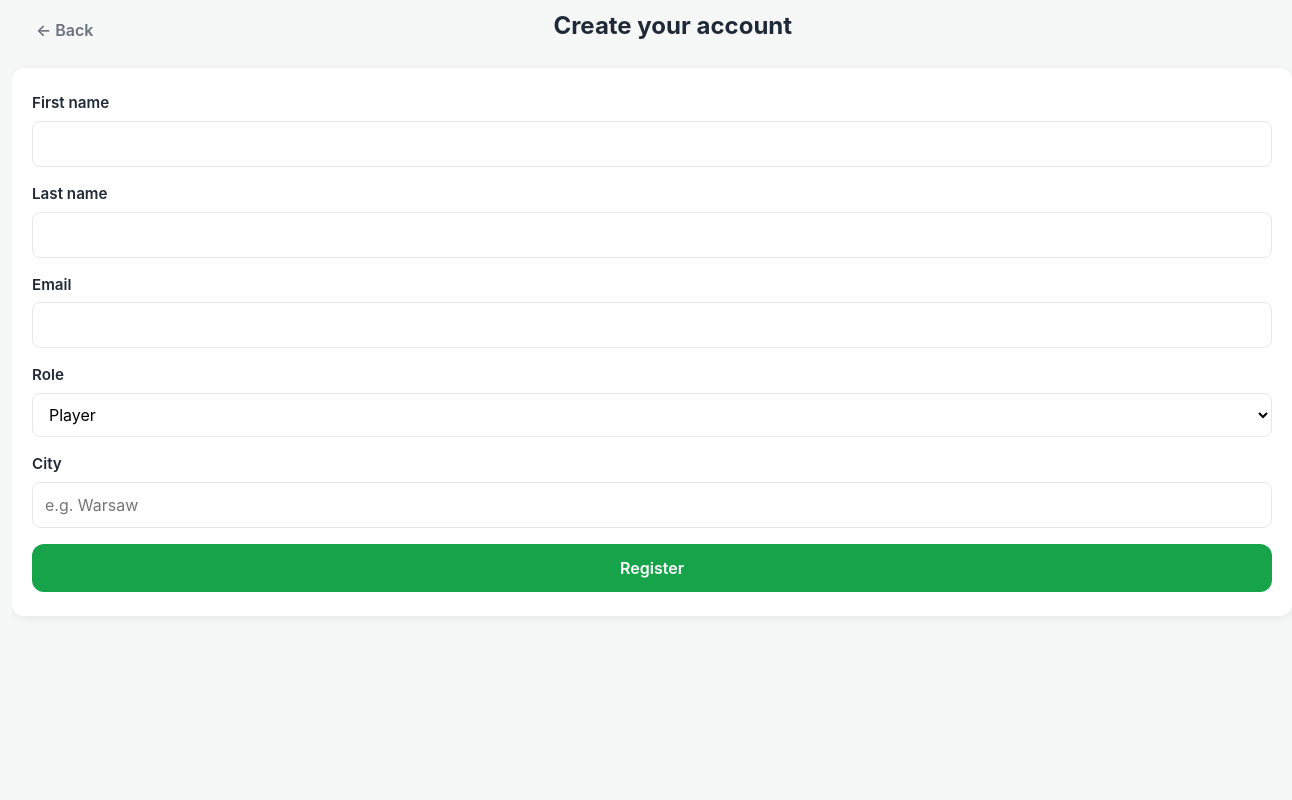
RegistrationPage › rejects an invalid email and shows city for players
Type "John" into the field labelled "First name" at (652, 144), box left=32, top=121, right=1272, bottom=167
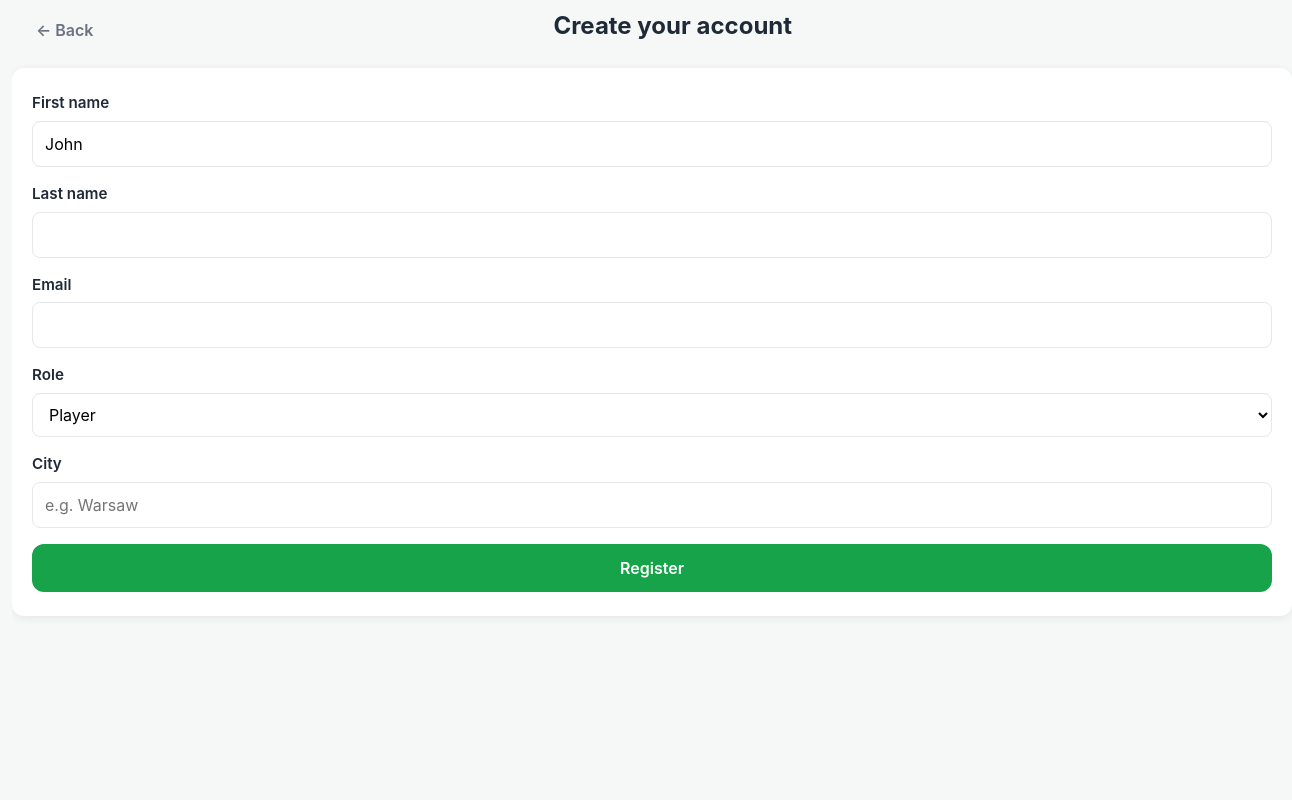
Type "Doe" into the field labelled "Last name" at (652, 235), box left=32, top=212, right=1272, bottom=258
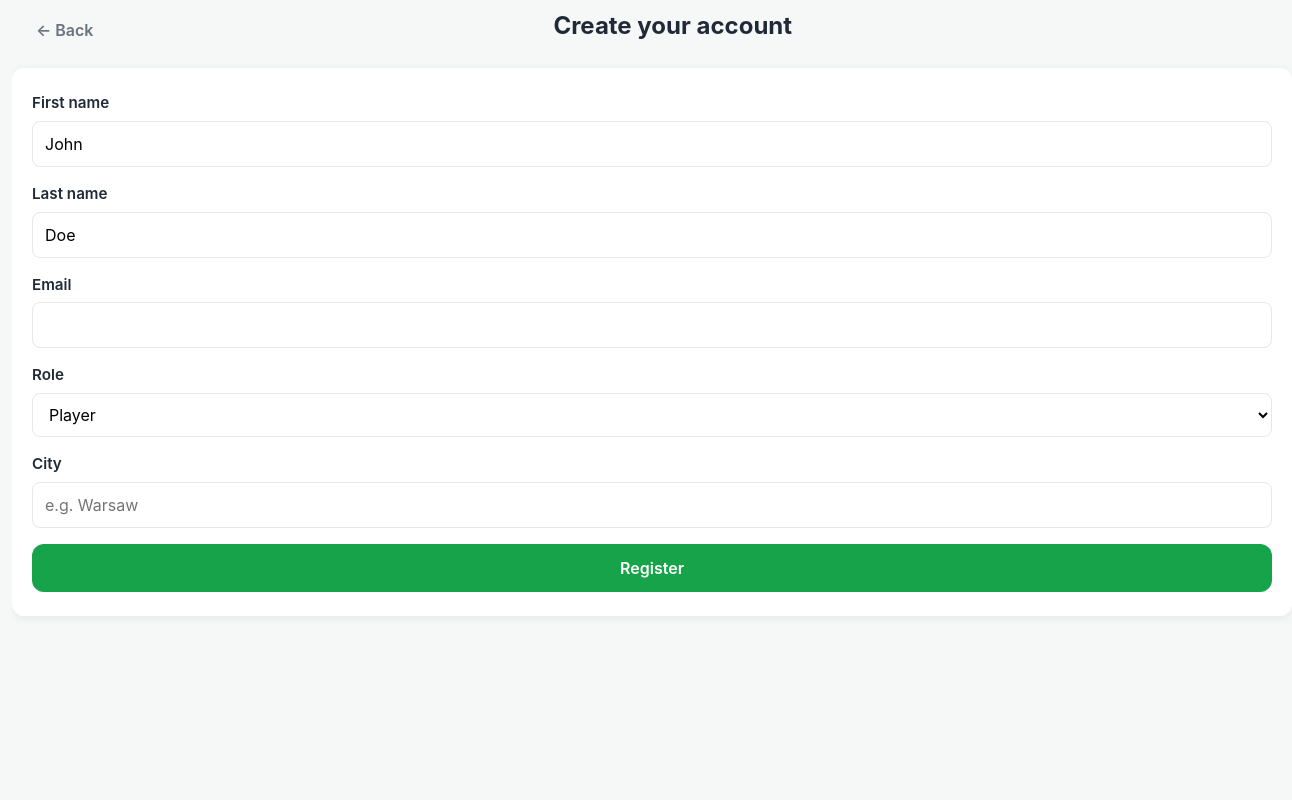
Type "bad-email" into the field labelled "Email" at (652, 325), box left=32, top=302, right=1272, bottom=348
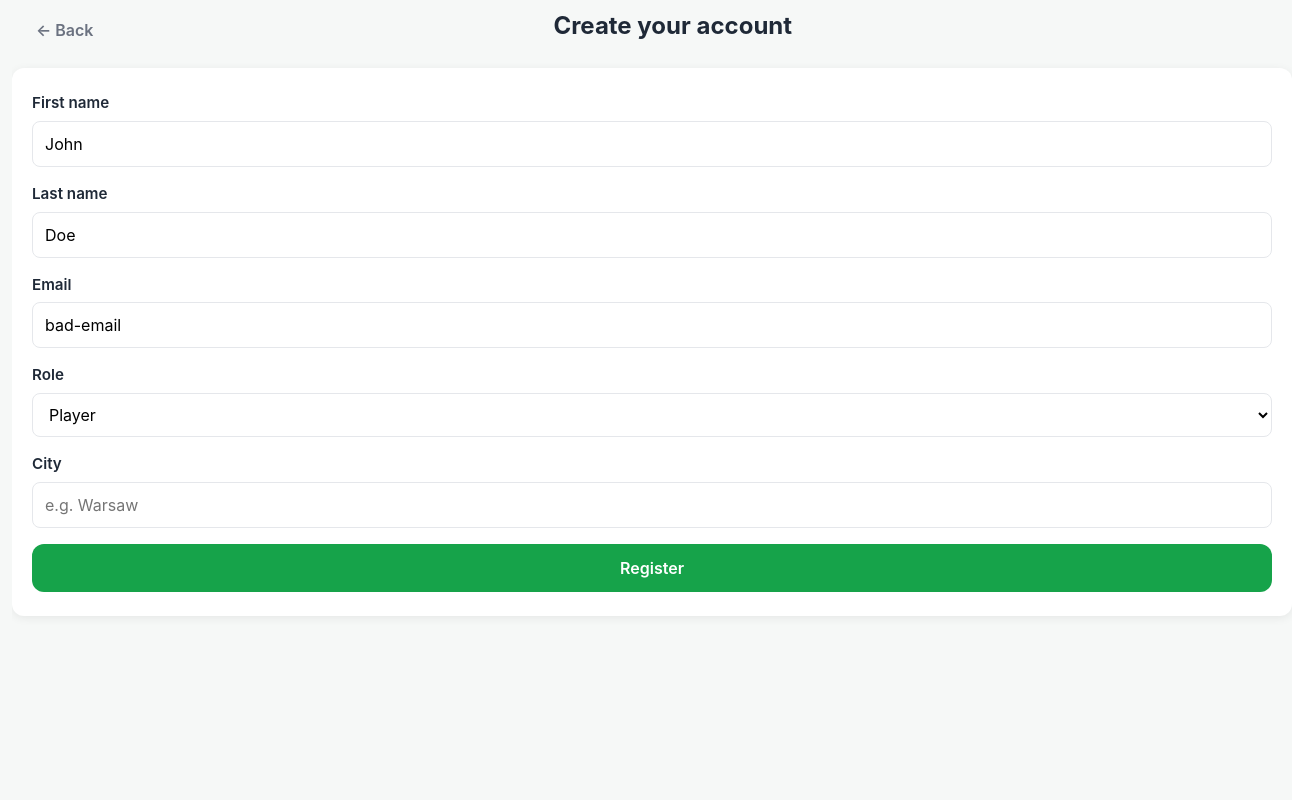
Type "Warsaw" into the field labelled "City" at (652, 505), box left=32, top=482, right=1272, bottom=528
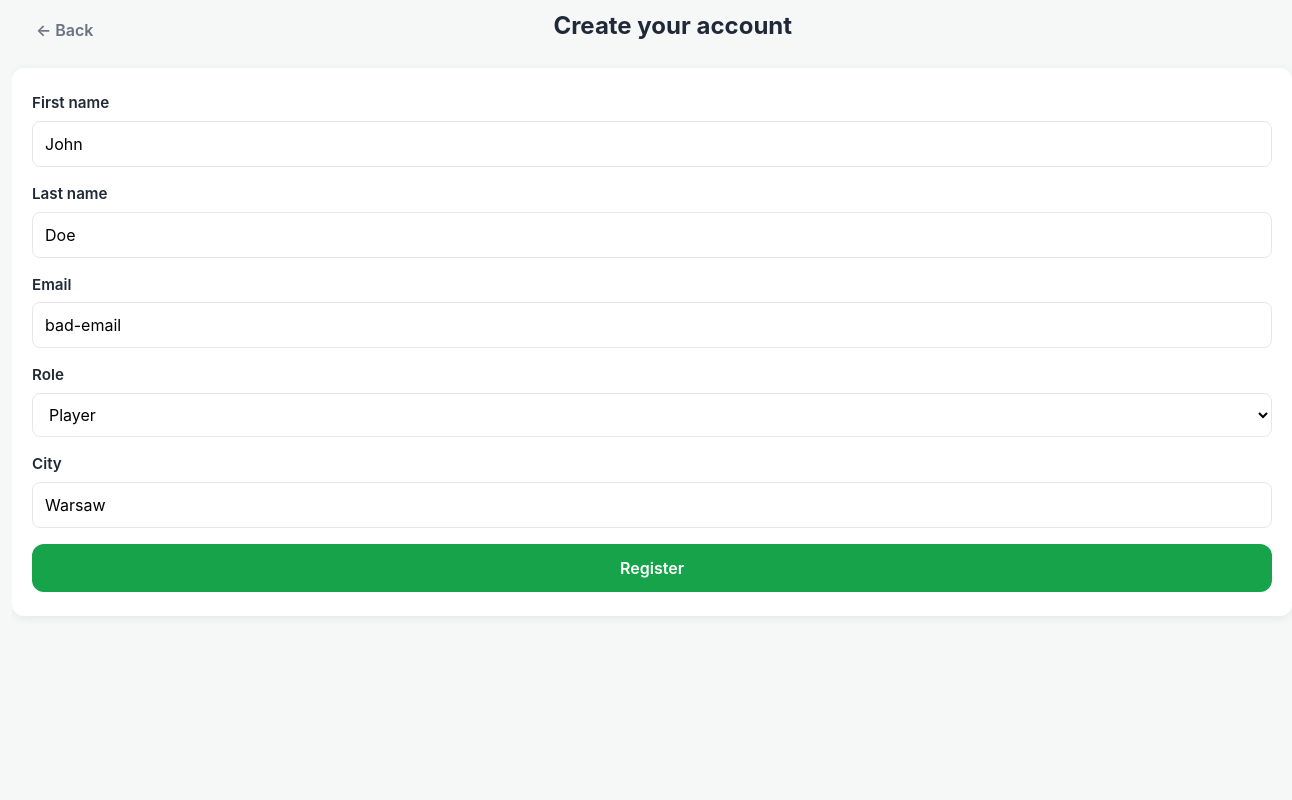
Click the button "Register" at (652, 568), box left=32, top=544, right=1272, bottom=592
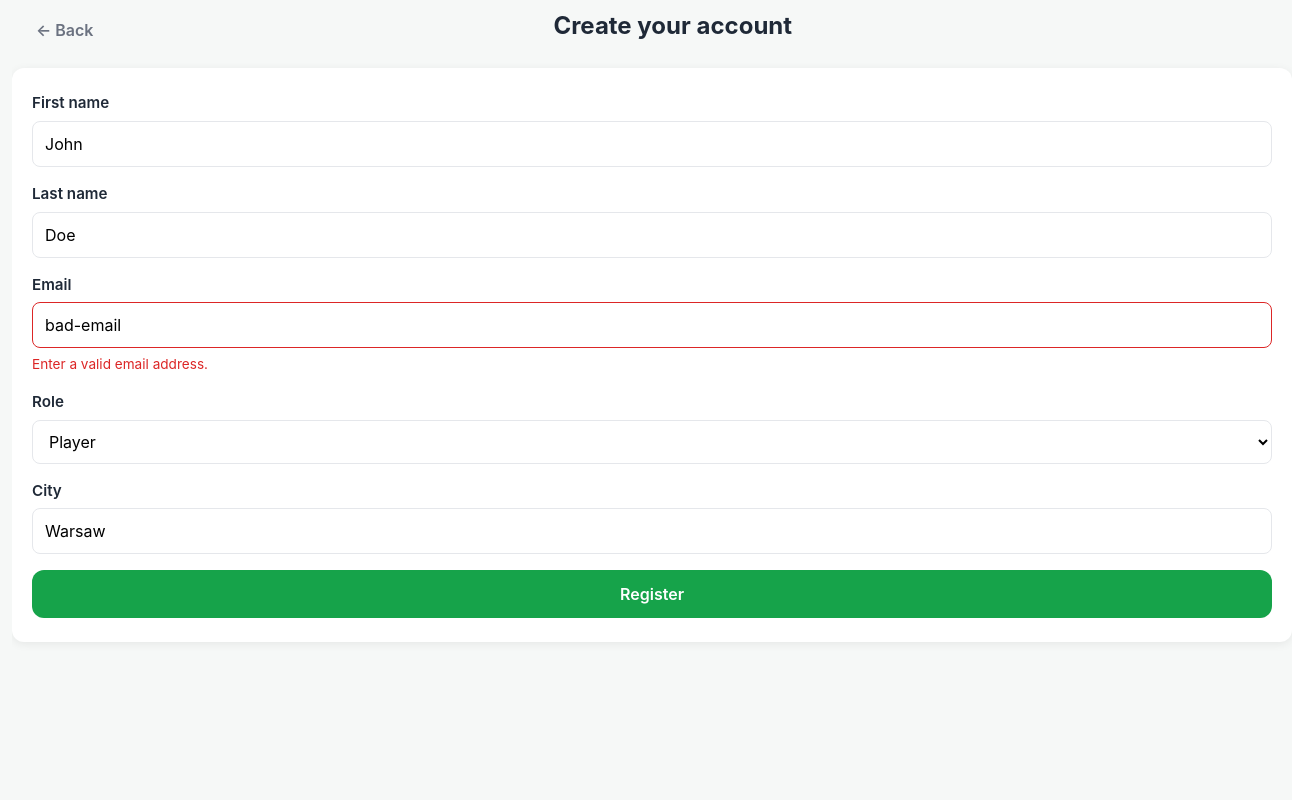
Expected: the text "Enter a valid email address." is shown, left=32, top=356, right=208, bottom=372
